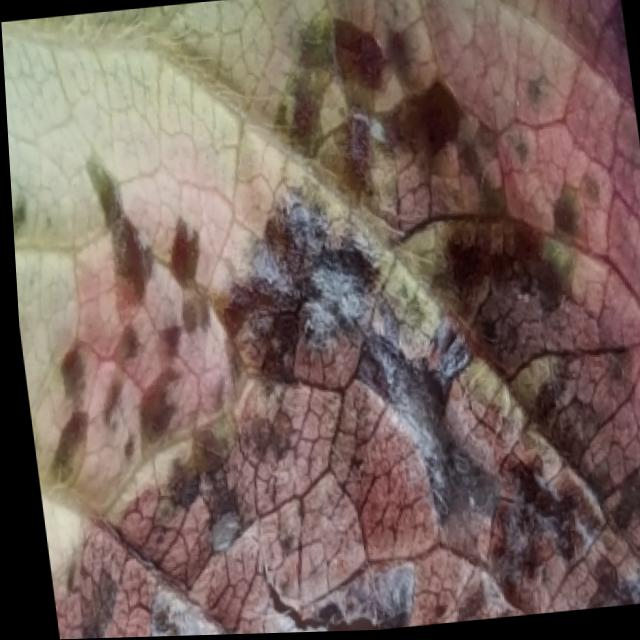Angular Leafspot: (8, 0, 640, 639)
